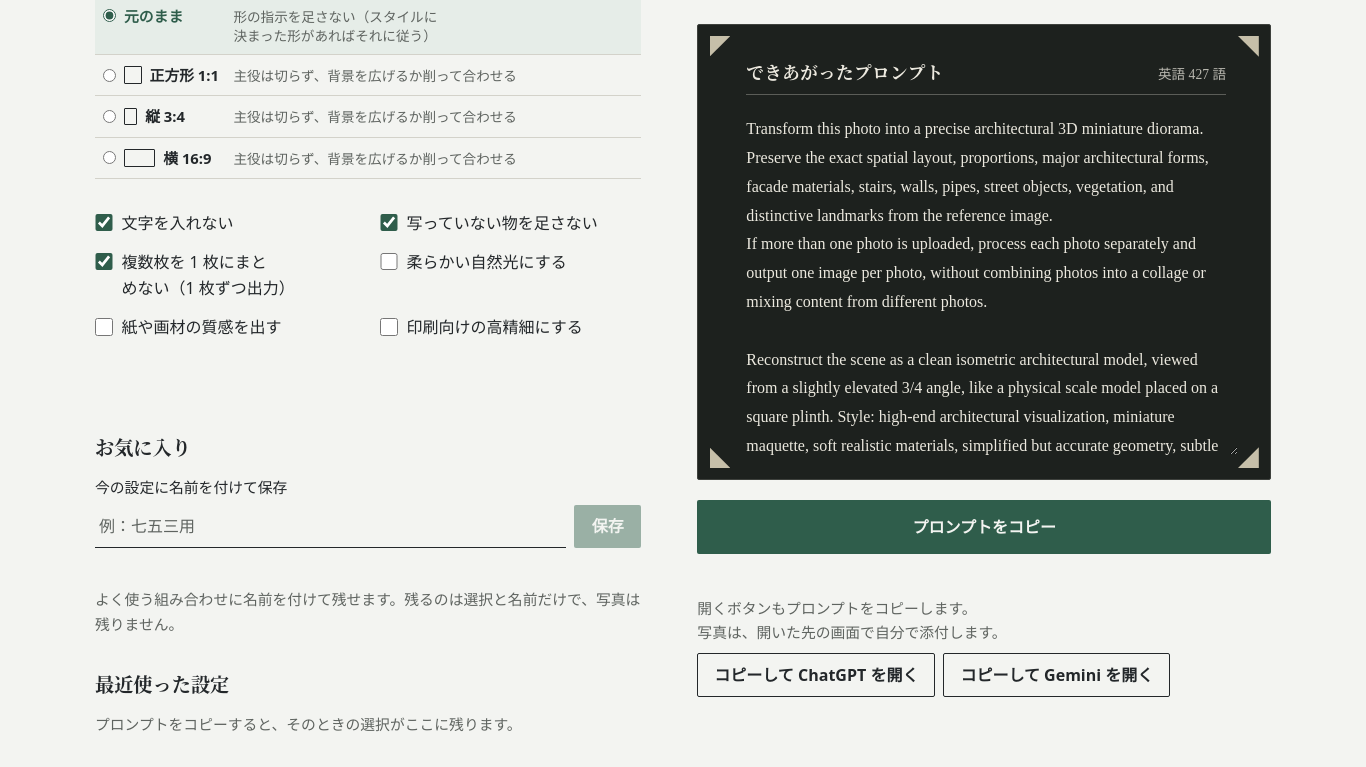
Test: お気に入り（logs/decisions.md 2026-10-03「名前を付けて保存」） › ブラウザに書き込めないときは、画面を閉じると消えると知らせる
(page scrolled)
Type "いつもの" into the field labelled "今の設定に名前を付けて保存" at (331, 526), box [95,505,566,548]
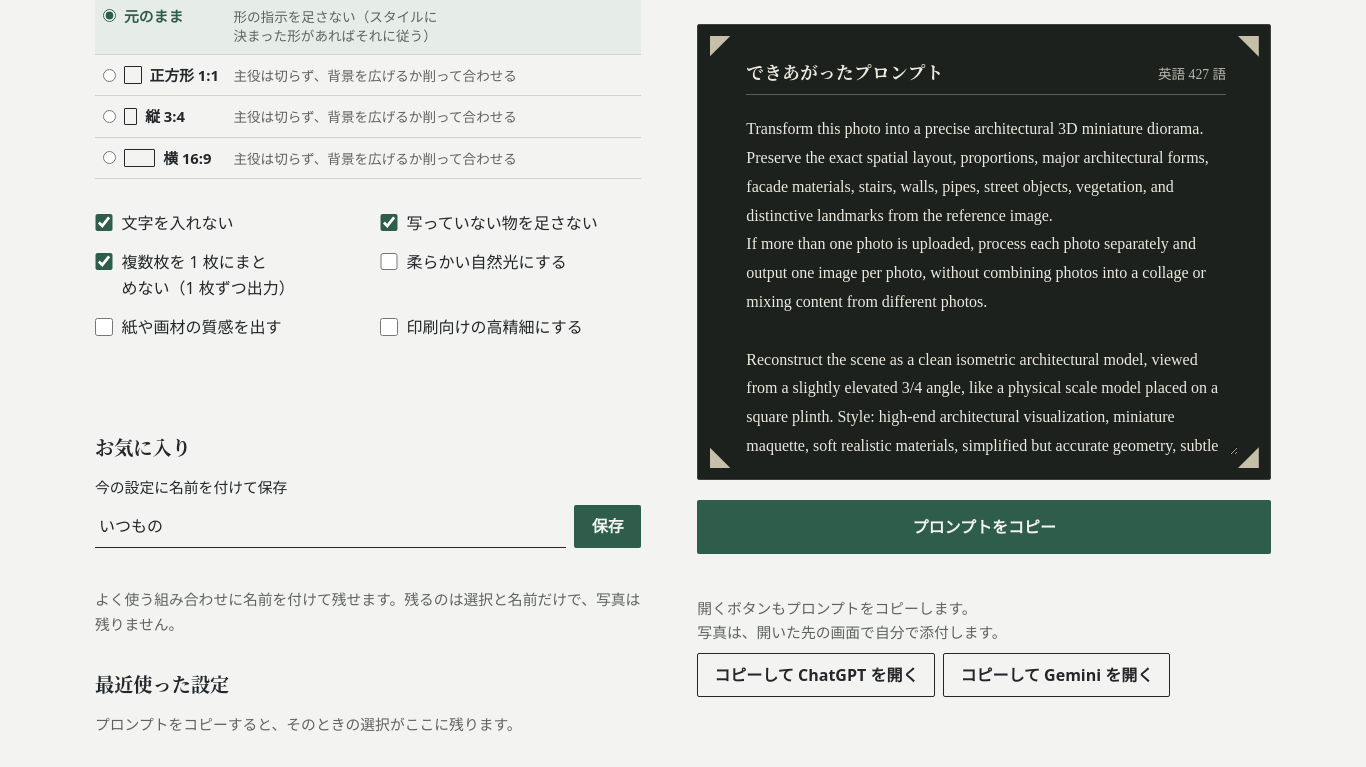
Click the button "保存" at (608, 526), box [574,505,641,548]
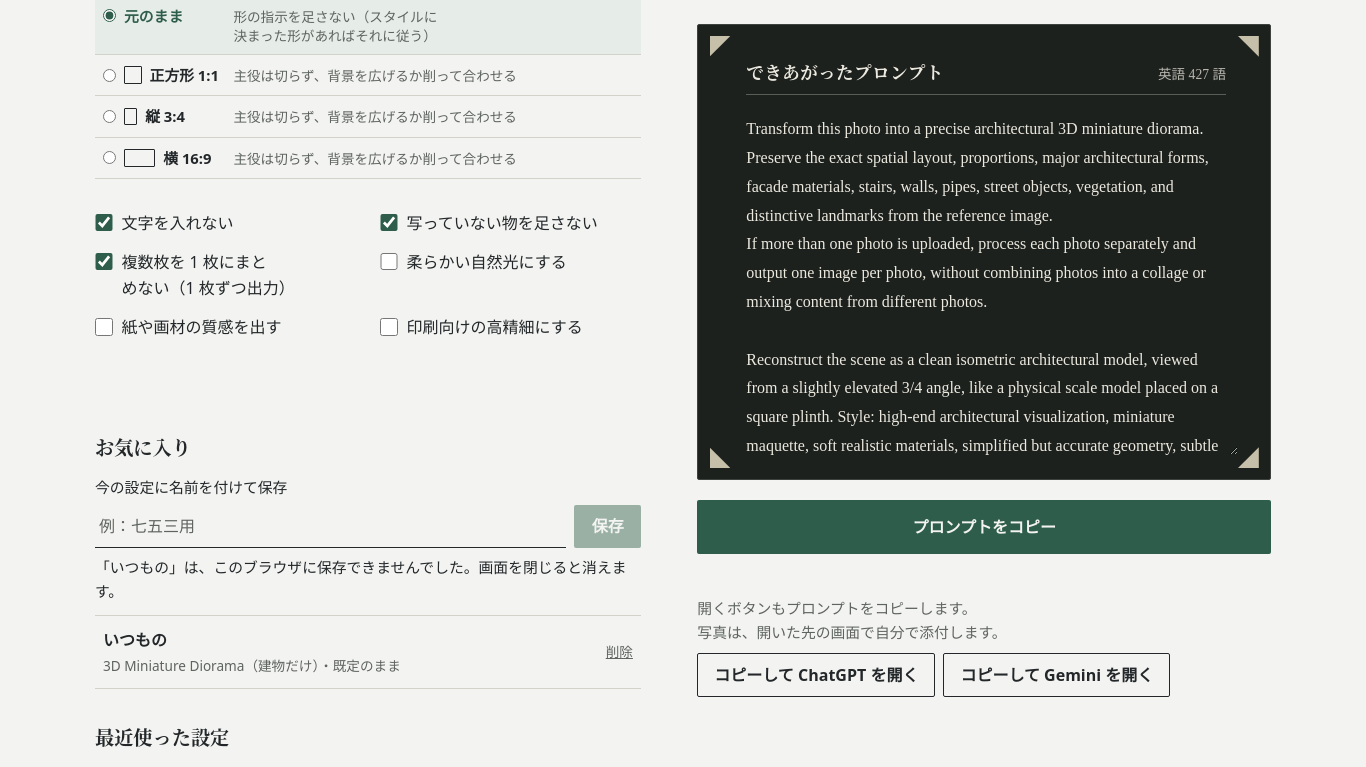
Now the text "「いつもの」は、このブラウザに保存できませんでした。画面を閉じると消えます。" is shown, box [95,554,641,603]
Now the button "いつもの 3D Miniature Diorama（建物だけ）・既定のまま" is shown, box [95,616,591,688]
